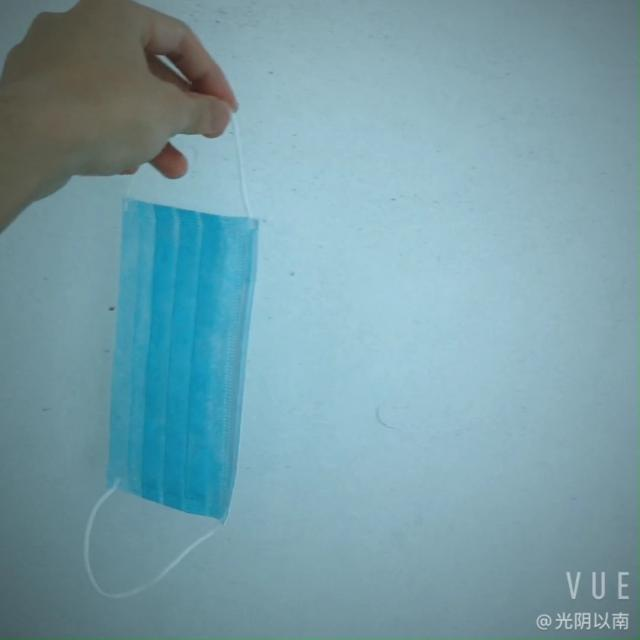non-organic waste: (84, 187, 258, 526)
